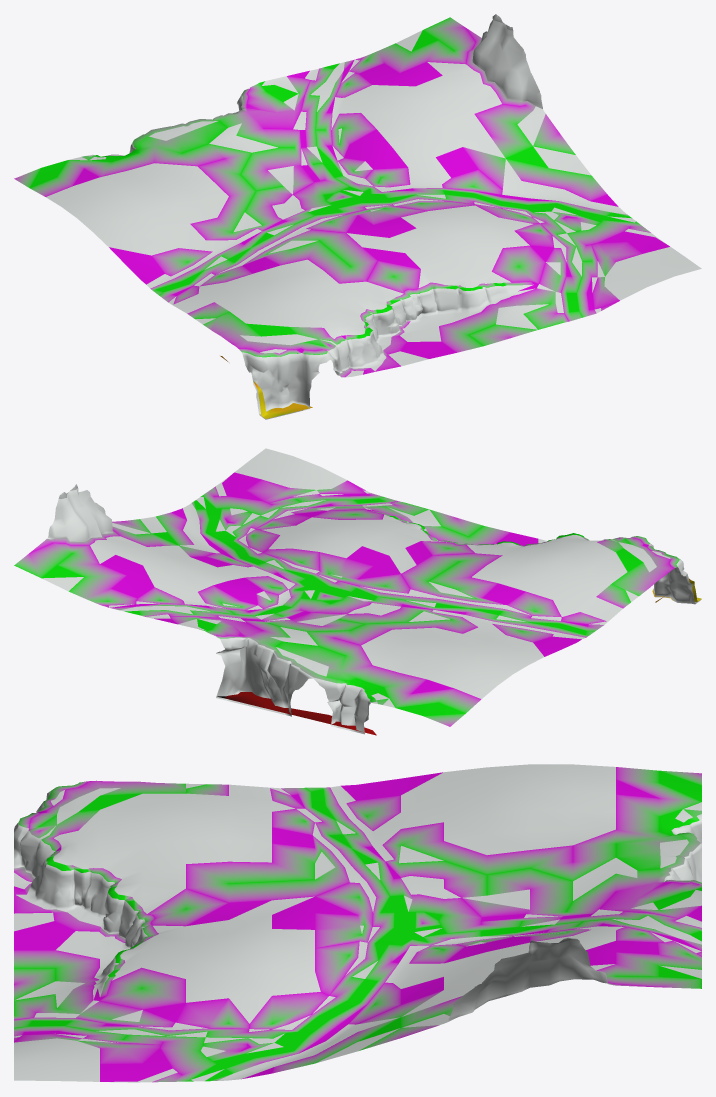
3 renders of one model, top to bottom at view 1: azimuth 30°, elevation 25°; view 2: azimuth 150°, elevation 25°; view 3: azimuth 270°, elevation 25°, orthographic. The views are drawn at different scales.
Visible parts, largest first — view 1: G:\FFXIV-MapTools\exports\f1f1\bg\ffxiv\fst_f1\fld\f1f1\bgpl (×13); view 2: G:\FFXIV-MapTools\exports\f1f1\bg\ffxiv\fst_f1\fld\f1f1\bgpl (×12); view 3: G:\FFXIV-MapTools\exports\f1f1\bg\ffxiv\fst_f1\fld\f1f1\bgpl (×14).
Part boxes in pixels (<box>): G:\FFXIV-MapTools\exports\f1f1\bg\ffxiv\fst_f1\fld\f1f1\bgpl (×13): <box>14,17,701,414</box>; G:\FFXIV-MapTools\exports\f1f1\bg\ffxiv\fst_f1\fld\f1f1\bgpl (×12): <box>14,448,701,735</box>; G:\FFXIV-MapTools\exports\f1f1\bg\ffxiv\fst_f1\fld\f1f1\bgpl (×14): <box>14,764,701,1082</box>.
Size of the model in its own units: 128 by 41.7 by 128.
